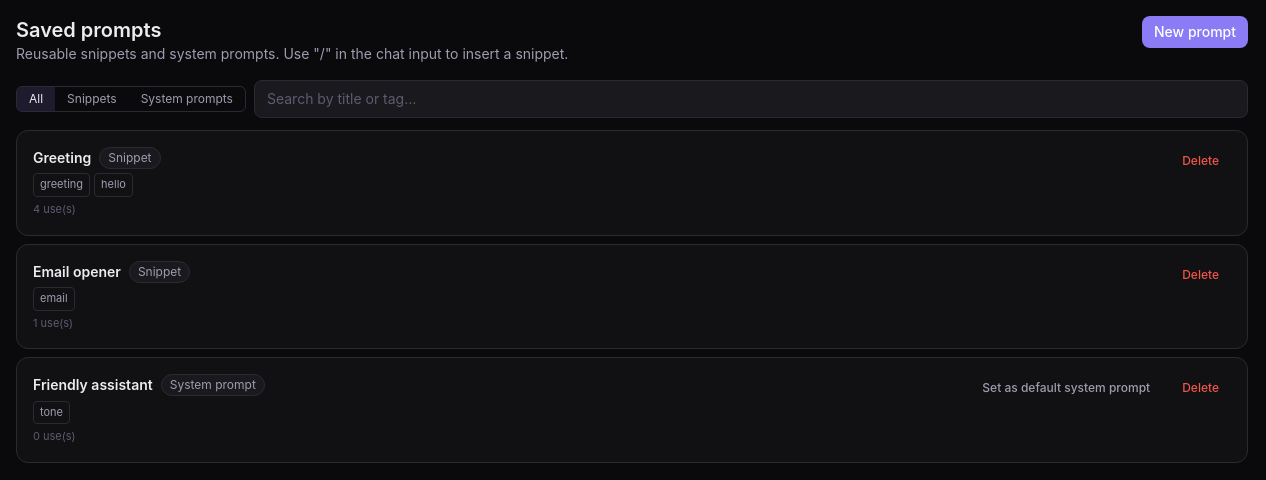
Scenario: PromptLibraryPanel search › filters by tag substring
This screenshot has width=1266, height=480.
Expected: the list item with test id "prompt-row-snip-a" is shown, [16,130,1248,236]
In the field with test id "prompt-search-input": (751,99) [254,80,1248,118], type "greeting"
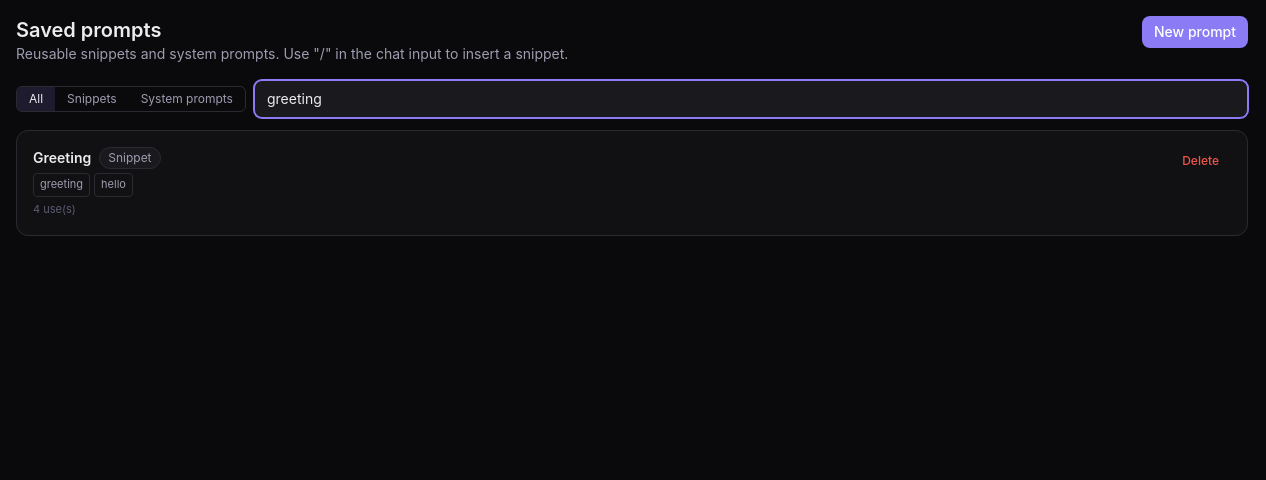
Expected: the list item with test id "prompt-row-snip-a" is shown, [16,130,1248,236]
Expected: the list item with test id "prompt-row-snip-b" is gone
